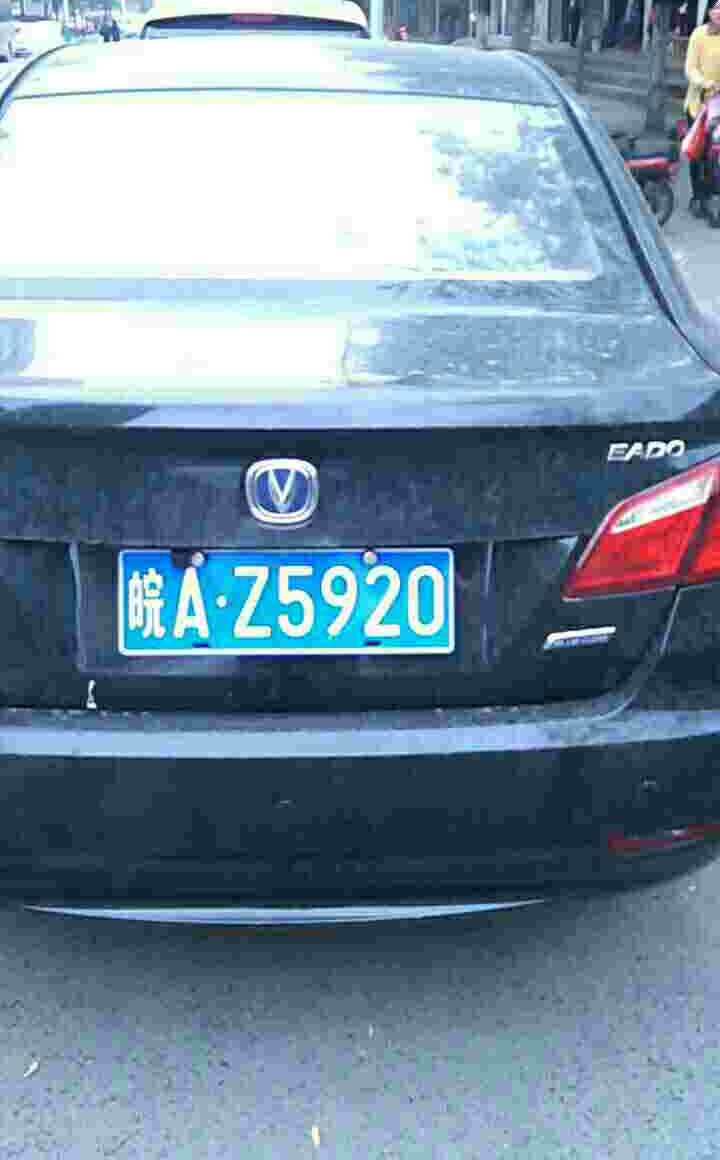license_plate: (111, 550, 459, 652)
